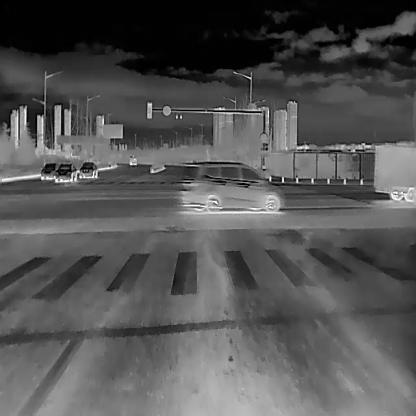car: (181, 159, 283, 213), (53, 162, 76, 182), (77, 160, 96, 178), (40, 162, 57, 180)
truck: (373, 140, 415, 202), (126, 154, 136, 165)
